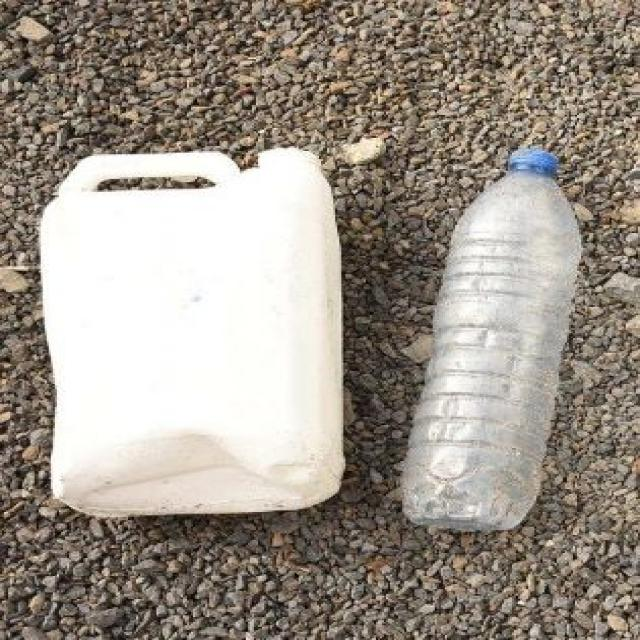dry: (29, 135, 353, 528), (392, 145, 595, 543), (439, 124, 457, 130), (456, 128, 457, 132)
